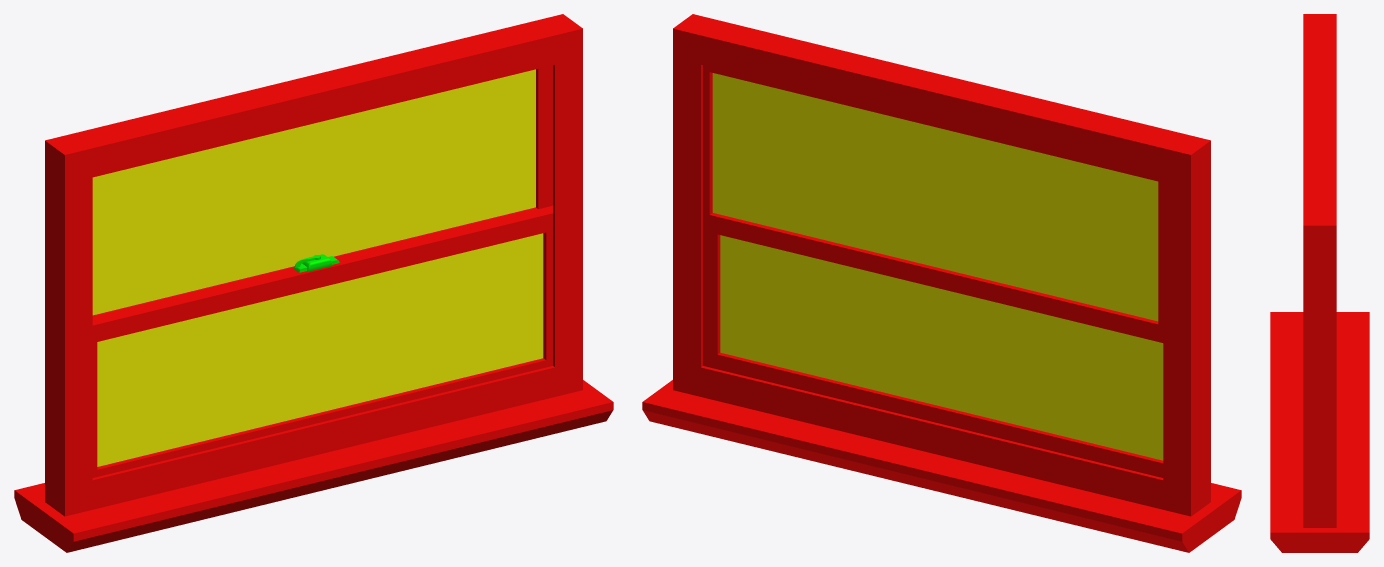
The model's file is window_hung_48x32.glb.
3 views of the same model, side by side, from view 1: azimuth 30°, elevation 25°; view 2: azimuth 150°, elevation 25°; view 3: azimuth 270°, elevation 25° (orthographic). The views are drawn at different scales.
Parts seen in each view (by area): view 1: window_hung_48x32; view 2: window_hung_48x32; view 3: window_hung_48x32.
Boxes of the visible parts, x1,y1,x2,y2 form: window_hung_48x32: (14,14,613,552); window_hung_48x32: (642,14,1241,552); window_hung_48x32: (1270,14,1369,552).
Bounding box in the file's own units: 1.27 × 0.8678 × 0.2416.
